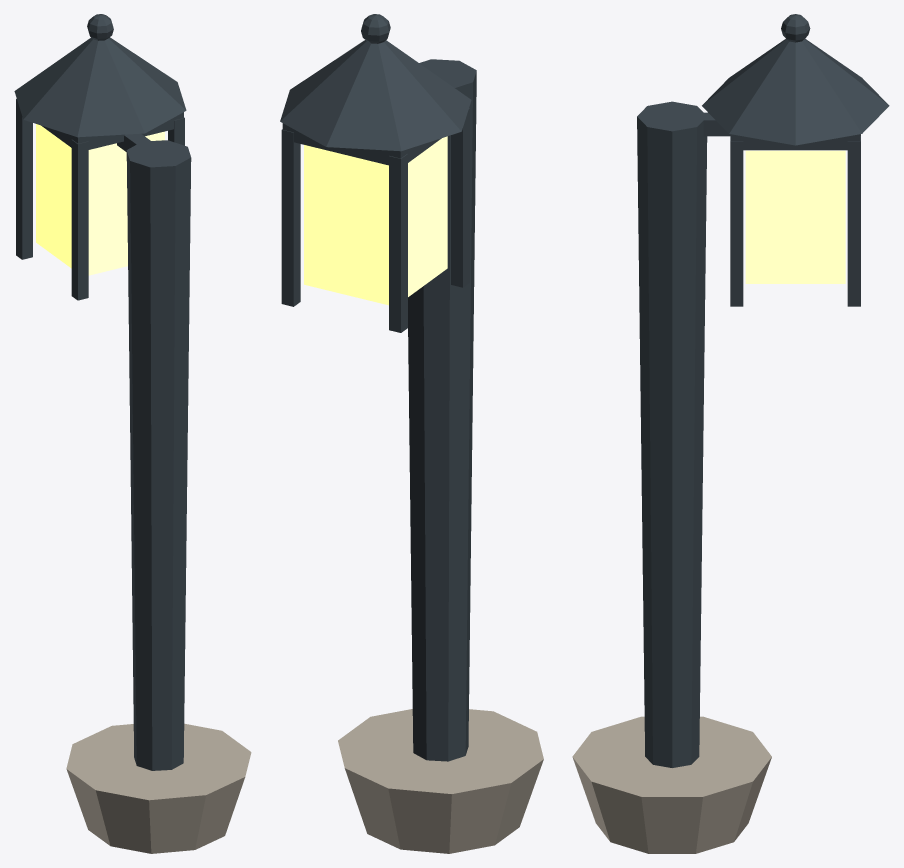
File: lantern.glb
3 views of the same model, side by side, from view 1: azimuth 30°, elevation 25°; view 2: azimuth 150°, elevation 25°; view 3: azimuth 270°, elevation 25° (orthographic). The views are drawn at different scales.
Parts seen in each view (by area): view 1: lantern; view 2: lantern; view 3: lantern.
Part boxes in pixels (x1=…): lantern: x1=14, y1=14, x2=251, y2=853; lantern: x1=280, y1=14, x2=543, y2=853; lantern: x1=572, y1=14, x2=889, y2=853.
Size of the model in its own units: 0.6467 by 3.04 by 1.08.
